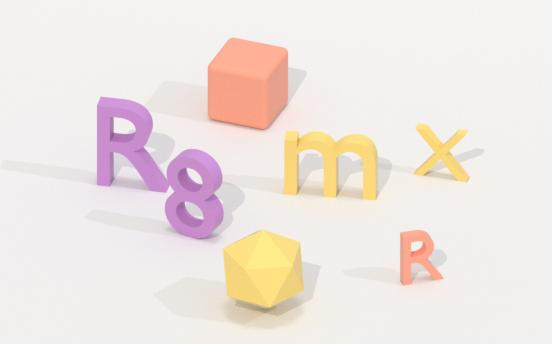8: (161, 149, 229, 244)
R-hoa: (91, 97, 171, 200), (396, 227, 445, 289)
dagiac: (214, 231, 312, 308)
hop: (198, 35, 297, 133)
m: (284, 126, 382, 204)
x: (412, 122, 472, 183)
